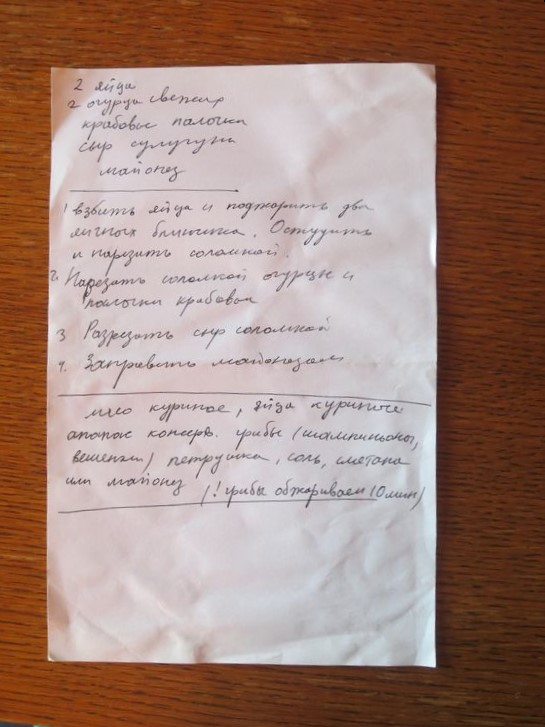page: (51, 70, 435, 663)
